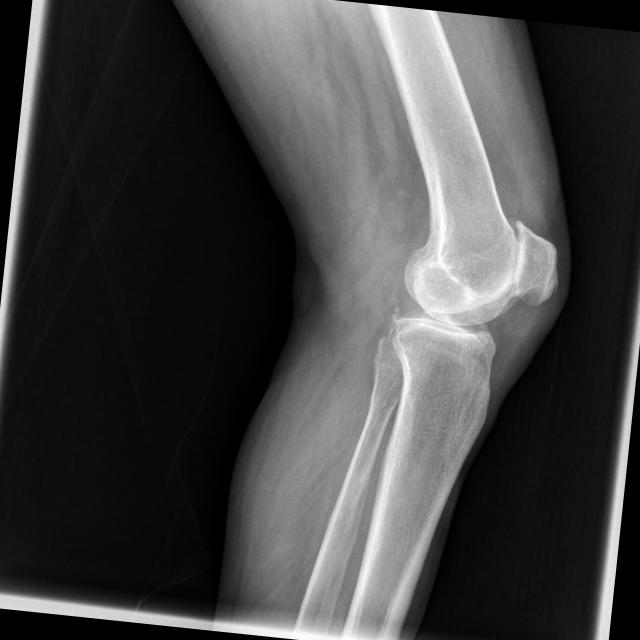Knee: (387, 208, 566, 388)
